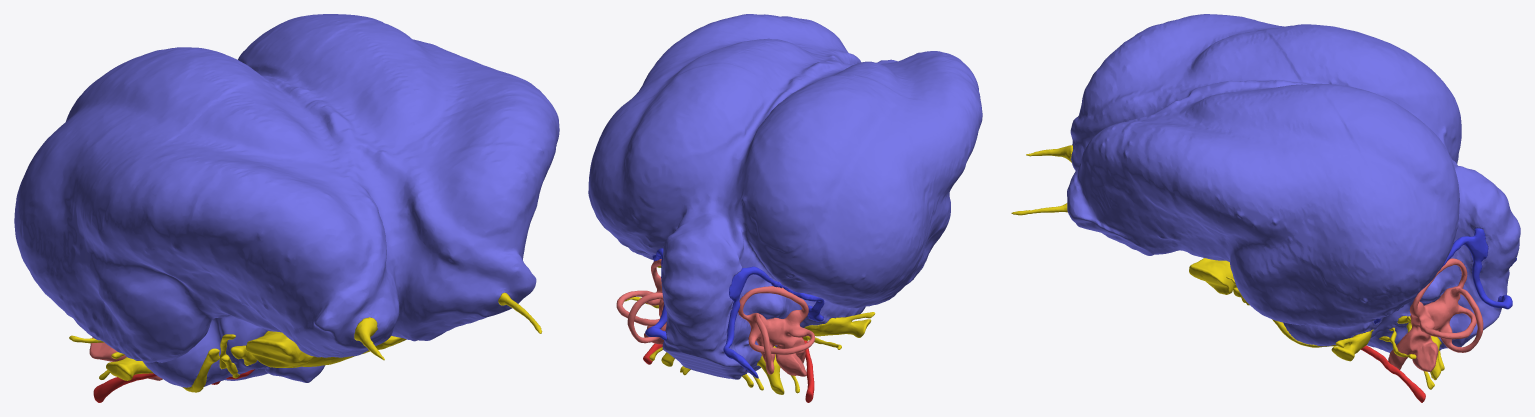
The picture shows the model from 3 angles, left to right: view 1: azimuth 30°, elevation 25°; view 2: azimuth 150°, elevation 25°; view 3: azimuth 270°, elevation 25°; orthographic projection. The views are drawn at different scales.
Parts seen in each view (by area): view 1: Endocast, Cranial_Nerves, Arteries, Endosseus_Labyrinths; view 2: Endocast, Endosseus_Labyrinths, Veins, Cranial_Nerves, Arteries; view 3: Endocast, Endosseus_Labyrinths, Cranial_Nerves, Veins, Arteries.
Boxes of the visible parts, x1=… form: Endocast: x1=14, y1=14, x2=559, y2=387; Cranial_Nerves: x1=69, y1=292, x2=542, y2=392; Arteries: x1=93, y1=369, x2=254, y2=402; Endosseus_Labyrinths: x1=89, y1=337, x2=162, y2=380; Endocast: x1=588, y1=14, x2=982, y2=379; Endosseus_Labyrinths: x1=616, y1=259, x2=814, y2=376; Veins: x1=645, y1=248, x2=824, y2=378; Cranial_Nerves: x1=624, y1=265, x2=875, y2=394; Arteries: x1=643, y1=337, x2=814, y2=402; Endocast: x1=1067, y1=14, x2=1520, y2=352; Endosseus_Labyrinths: x1=1388, y1=258, x2=1483, y2=371; Cranial_Nerves: x1=1011, y1=145, x2=1444, y2=389; Veins: x1=1374, y1=228, x2=1516, y2=324; Arteries: x1=1361, y1=345, x2=1425, y2=402.
Size of the model in its own units: 40.22 by 33.15 by 51.26.
